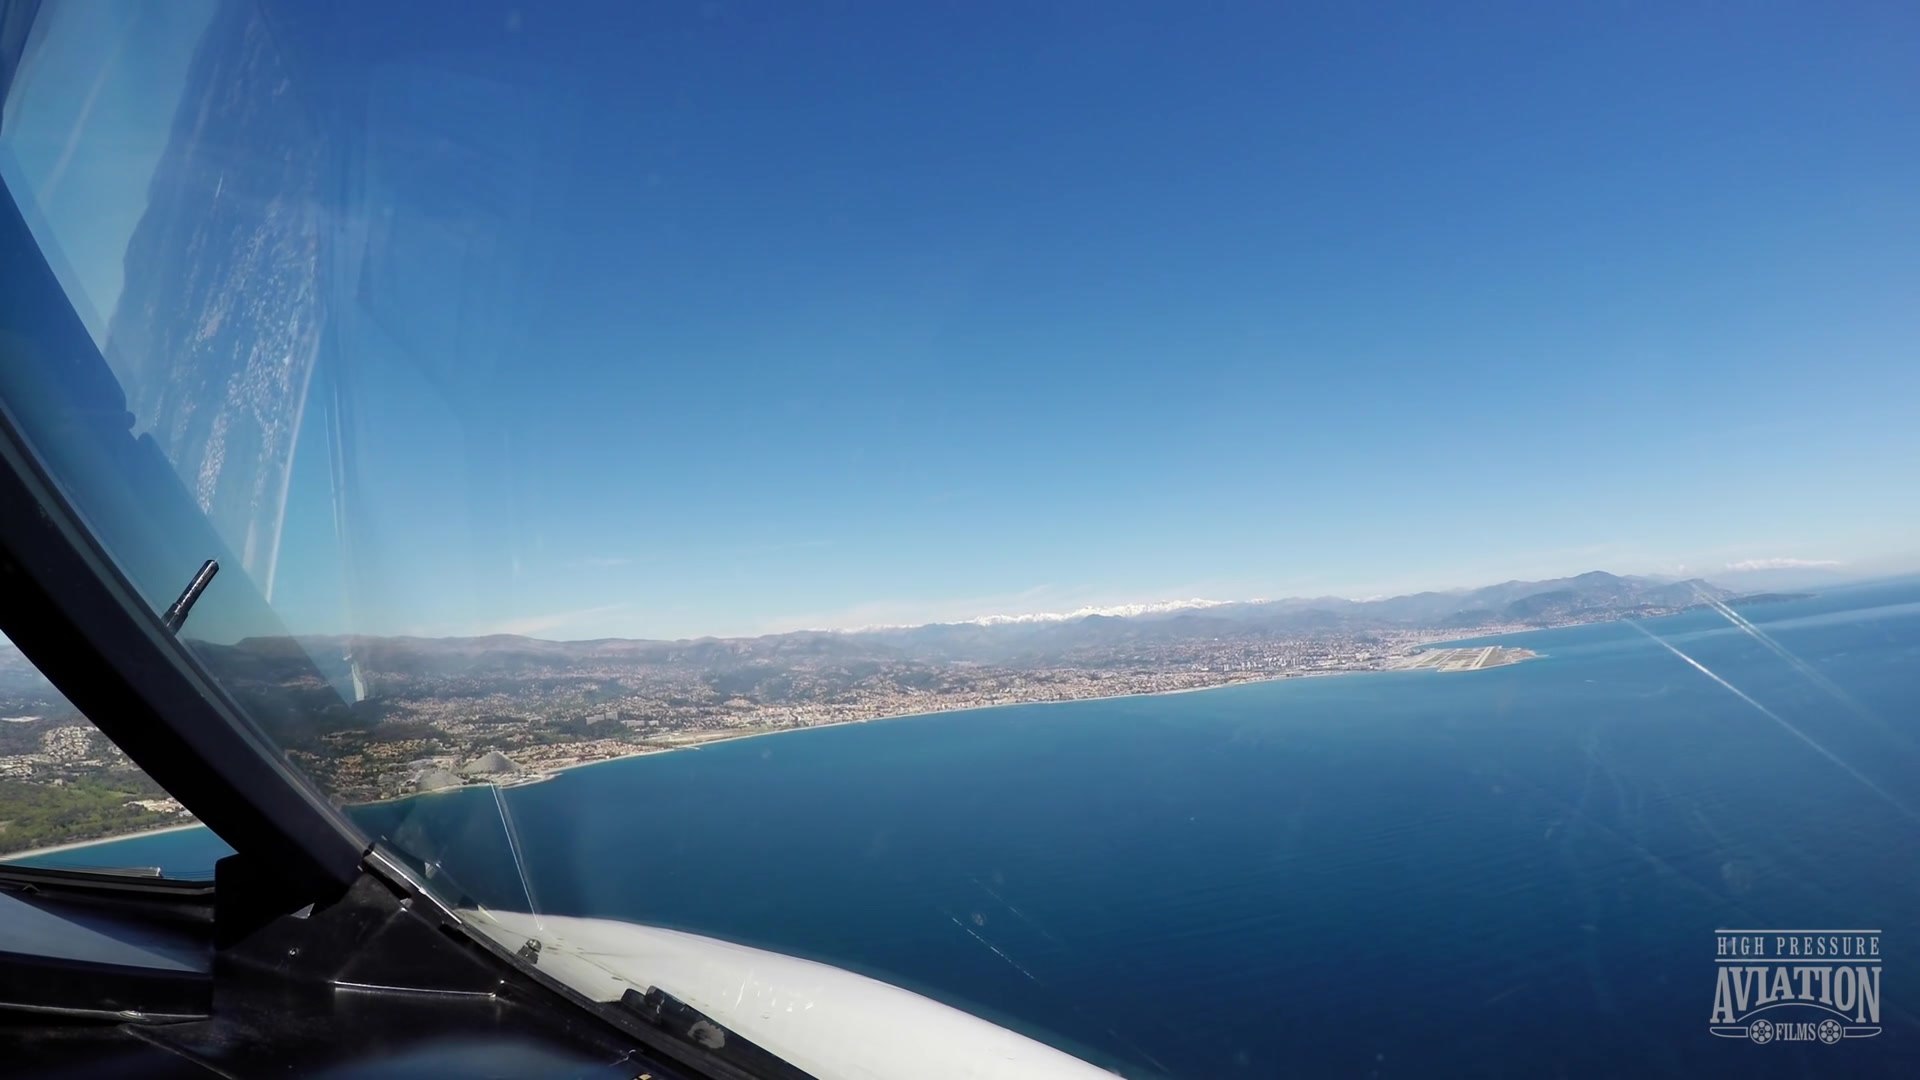runway: (1429, 647, 1462, 669), (1468, 646, 1494, 670)
